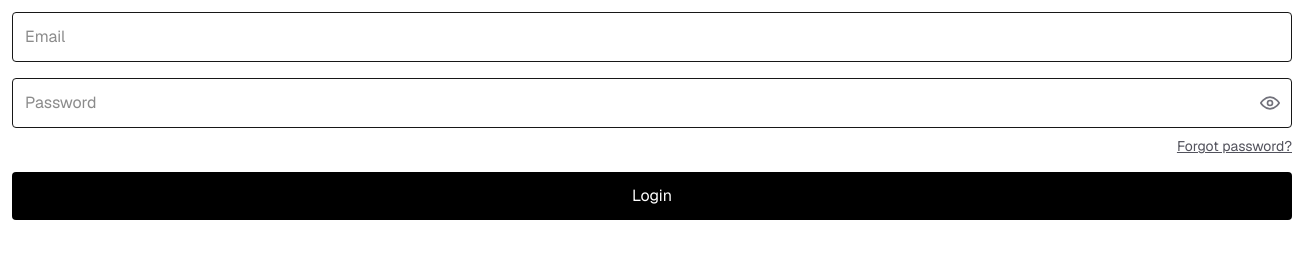
Test case: LoginForm › shows "Invalid email or password" with role="alert" when sign-in fails
The width and height of the screenshot is (1304, 273).
In the field with placeholder "Email": (652, 37) [12, 12, 1292, 62], type "user@example.com"
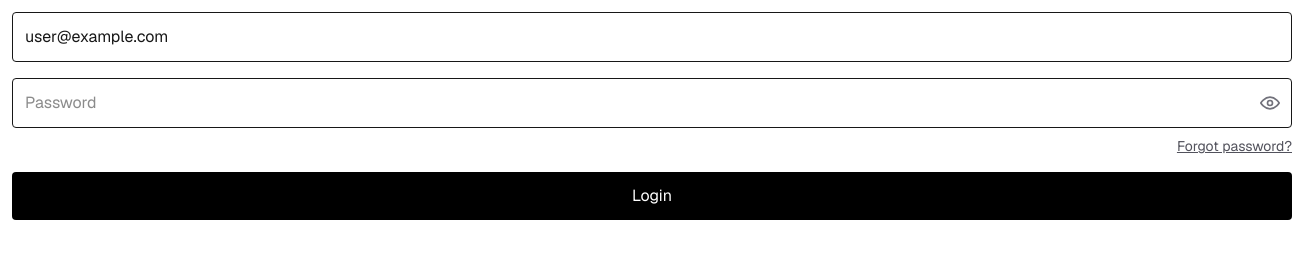
In the password field with placeholder "Password": (652, 103) [12, 78, 1292, 128], type "wrong-password"
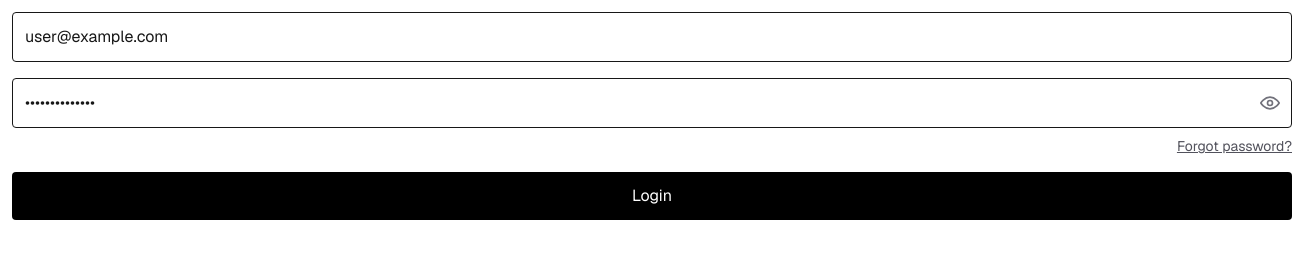
Click the button "Login": click(652, 196) [12, 172, 1292, 220]
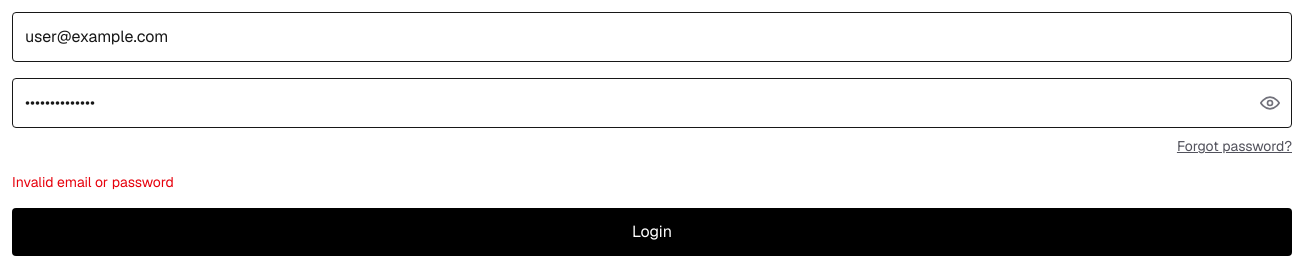
Now the message reads "Invalid email or password", box [12, 173, 174, 191]
